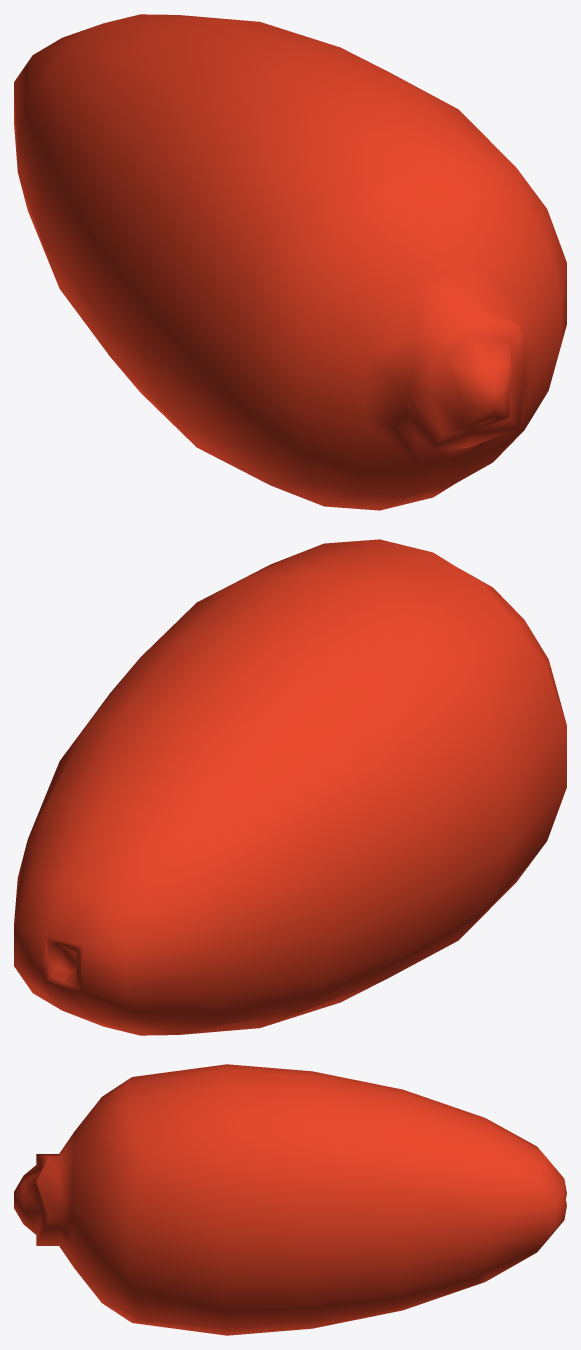
The model's file is Rosehip_Long.fbx.
The picture shows the model from 3 angles, top to bottom: view 1: azimuth 30°, elevation 25°; view 2: azimuth 150°, elevation 25°; view 3: azimuth 270°, elevation 25°; orthographic projection. The views are drawn at different scales.
Parts seen in each view (by area): view 1: rosehip looong; view 2: rosehip looong; view 3: rosehip looong.
Boxes of the visible parts, box(x1,y1,x2,y2) form: rosehip looong: box(14, 14, 566, 510); rosehip looong: box(14, 539, 566, 1035); rosehip looong: box(14, 1064, 566, 1335).
Size of the model in its own units: 3.36 by 3.36 by 6.96.
